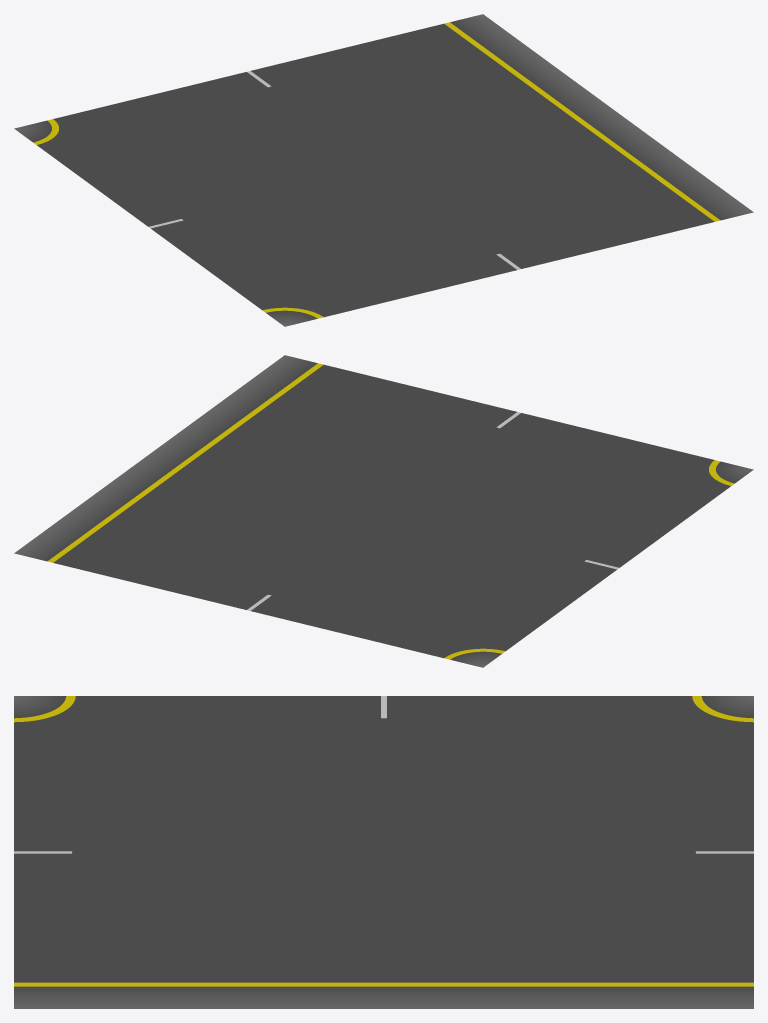
File: Troad_2_ex.fbx
3 renders of one model, top to bottom at view 1: azimuth 30°, elevation 25°; view 2: azimuth 150°, elevation 25°; view 3: azimuth 270°, elevation 25°, orthographic. The views are drawn at different scales.
Parts seen in each view (by area): view 1: Troad_2_ex; view 2: Troad_2_ex; view 3: Troad_2_ex.
Boxes of the visible parts, left/top/right/bottom form: Troad_2_ex: left=14, top=14, right=753, bottom=326; Troad_2_ex: left=14, top=355, right=753, bottom=667; Troad_2_ex: left=14, top=696, right=753, bottom=1008.
Bounding box in the file's own units: 12 × 12 × 0.
